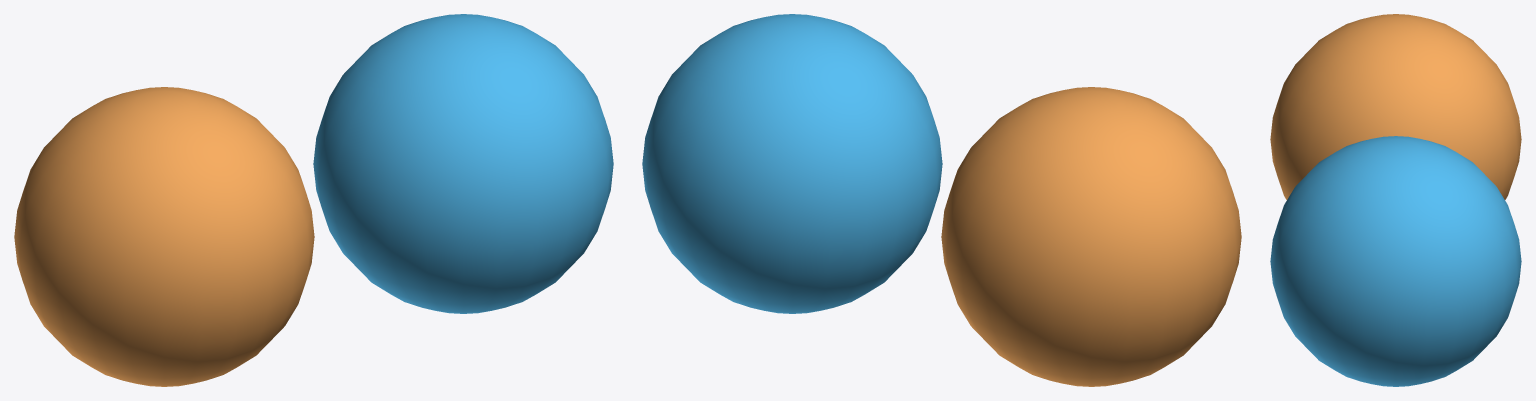
The model's file is model_lighting.glb.
The picture shows the model from 3 angles, left to right: view 1: azimuth 30°, elevation 25°; view 2: azimuth 150°, elevation 25°; view 3: azimuth 270°, elevation 25°; orthographic projection. The views are drawn at different scales.
Bounding box in the file's own units: 4.3 × 2 × 2.
